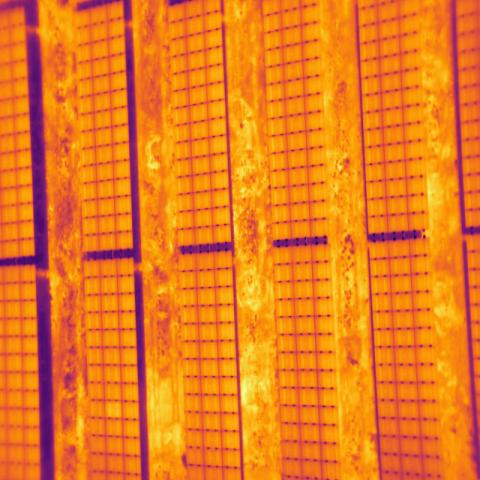fault: (104, 400, 122, 419)
